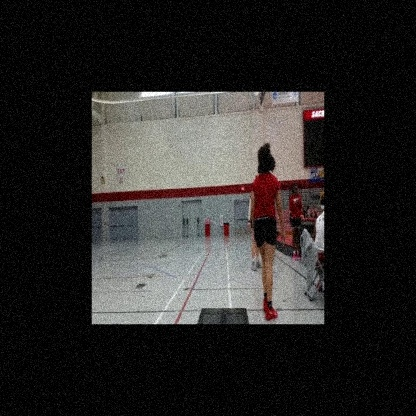lateral_flexion_left: (249, 141, 287, 324)
stance_width_narrow: (249, 170, 278, 324)
